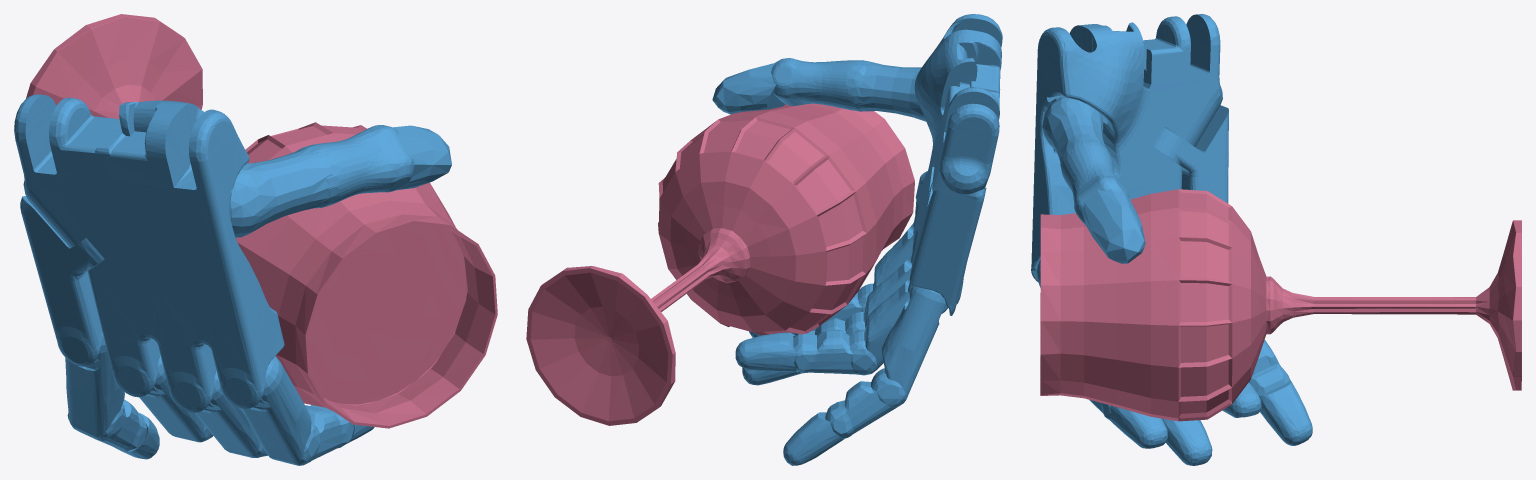
The picture shows the model from 3 angles, left to right: view 1: azimuth 30°, elevation 25°; view 2: azimuth 150°, elevation 25°; view 3: azimuth 270°, elevation 25°; orthographic projection. The views are drawn at different scales.
Visible parts, largest first — view 1: 8; view 2: 8; view 3: 8.
Part boxes in pixels (x1,y1,x2,y2): 8: (14,14,497,465); 8: (526,14,1002,465); 8: (1031,14,1521,465).
Bounding box in the file's own units: 0.1655 × 0.1785 × 0.2071.
